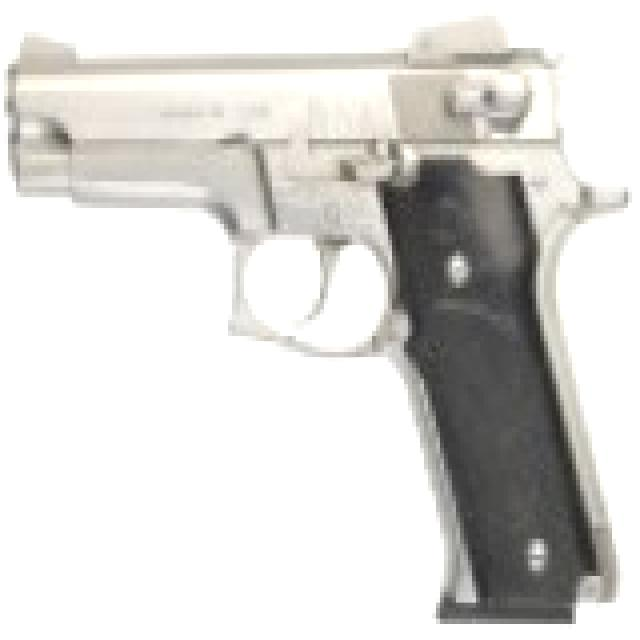pistol: (4, 16, 628, 619)
